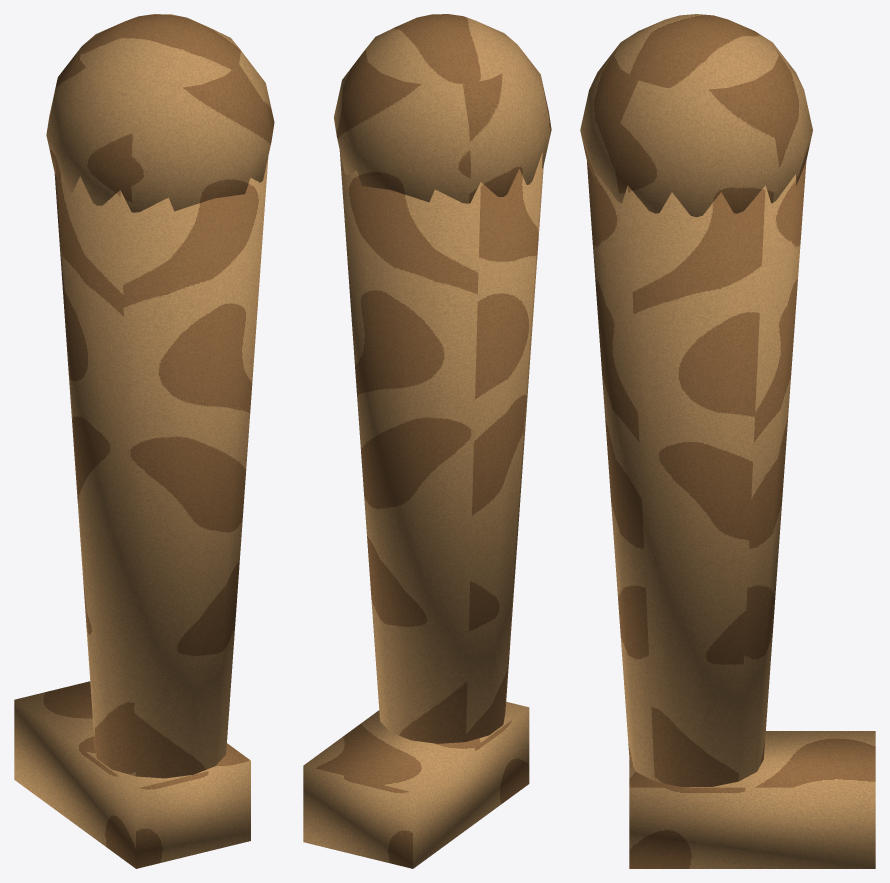
File: pata.obj
3 renders of one model, left to right at view 1: azimuth 30°, elevation 25°; view 2: azimuth 150°, elevation 25°; view 3: azimuth 270°, elevation 25°, orthographic. The views are drawn at different scales.
Parts seen in each view (by area): view 1: pata; view 2: pata; view 3: pata.
Part boxes in pixels (box(x1,y1,x2,y2)): pata: box(14, 14, 274, 868); pata: box(303, 14, 551, 868); pata: box(580, 14, 875, 868).
Bounding box in the file's own units: 0.104 × 0.402 × 0.132.
1 material, 1 textured.
